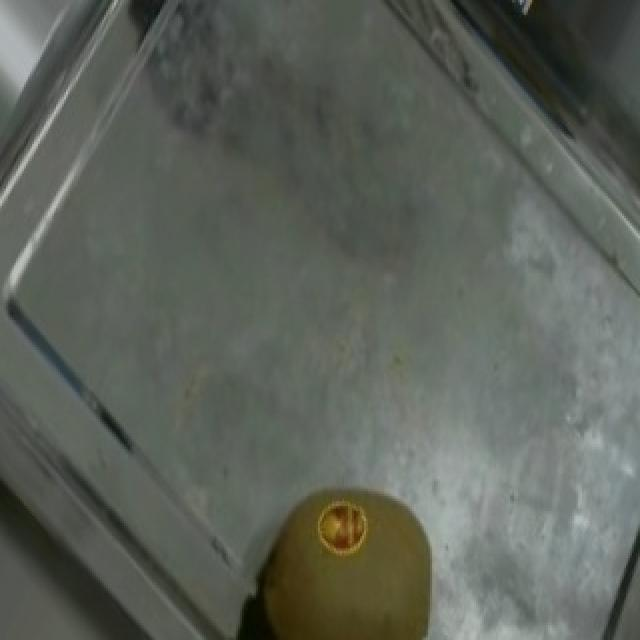Fruit: (222, 469, 474, 640)
